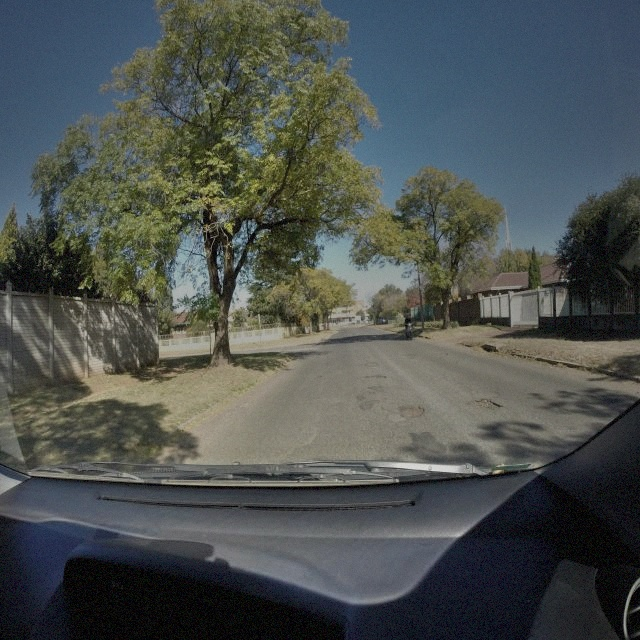pothole: (471, 396, 502, 414), (402, 406, 425, 421), (366, 373, 386, 380), (362, 390, 374, 398)
